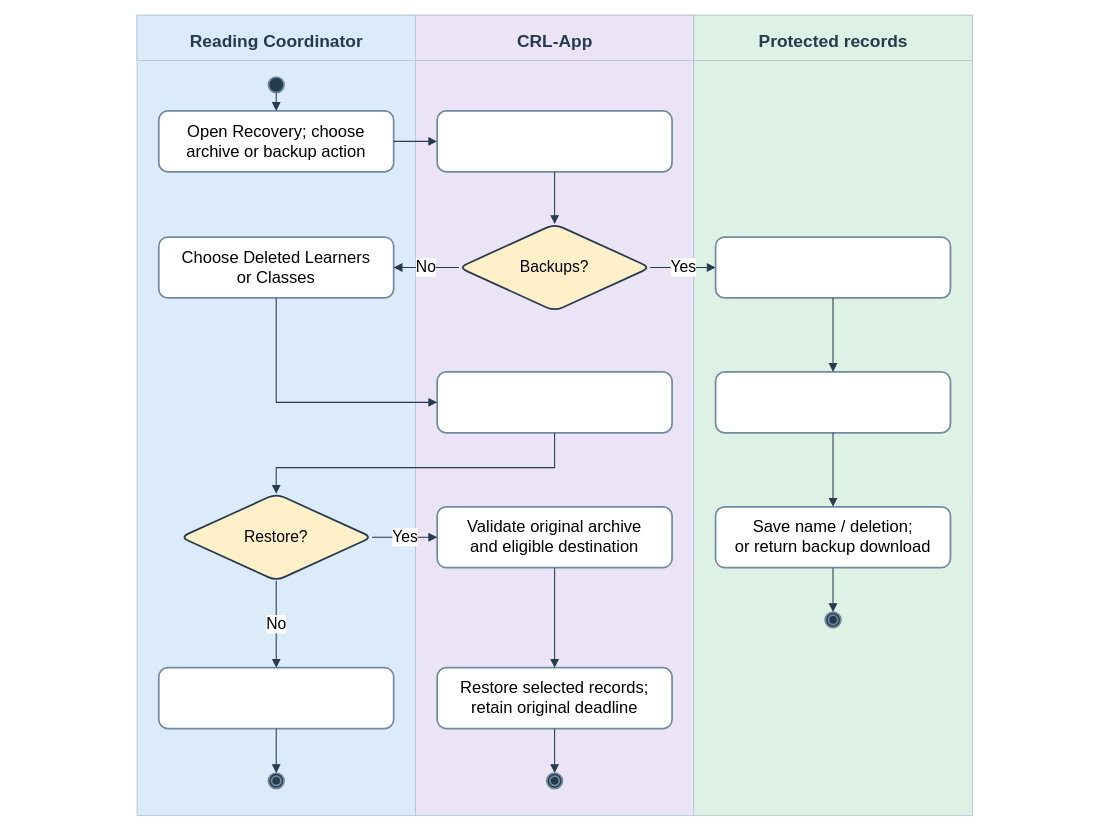
This 1108x831 diagram has some shape labels left out. Each missing label, with the centre of its shape:
"Create encrypted copy; or validate backup action" goes at (832,402).
"Load chosen teachers or the saved backup" goes at (832,267).
"Open Download dialog; save the archive file" goes at (275,697).
"Read available archives; show teacher and days" goes at (554,402).
"Verify coordinator access" goes at (554,141).
